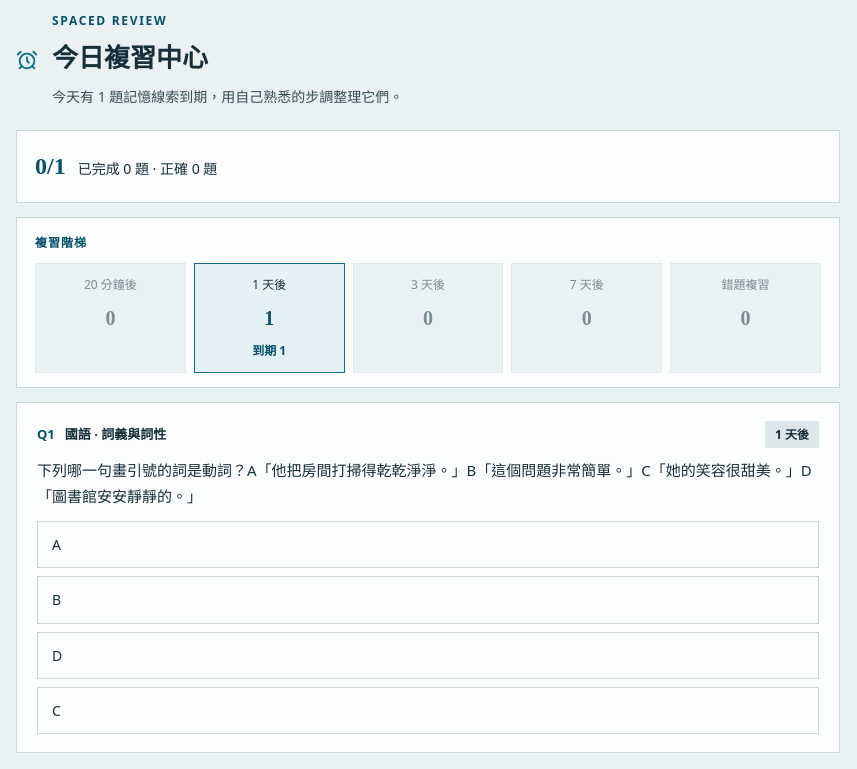
Scenario: 今日複習中心 › 標籤式選項題不渲染位置字母晶片，答錯回饋直接引述選項字母（deep019 回歸）
Note: 答錯（選 B）→ 回饋引述字母本身，而不是「你選了 B，正解是 A」的位置字母疊加
Click the button "B": (57, 600) [37,576,819,624]
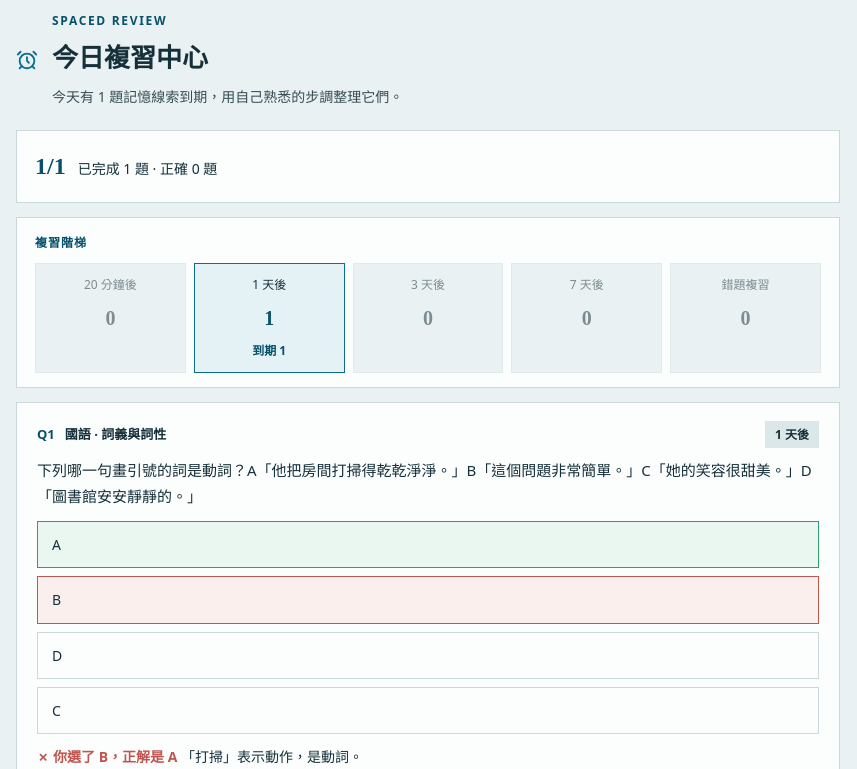
Expected: the text "✗ 你選了 B，正解是 A 「打掃」表示動作，是動詞。" is shown, [37,747,363,766]
